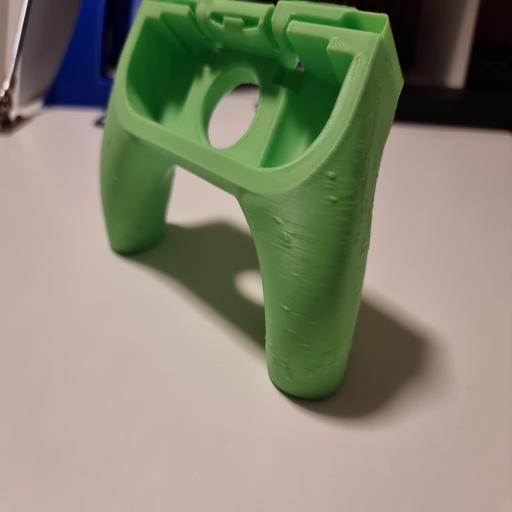blobs: (314, 158, 344, 232), (257, 218, 307, 255), (270, 285, 304, 327)
